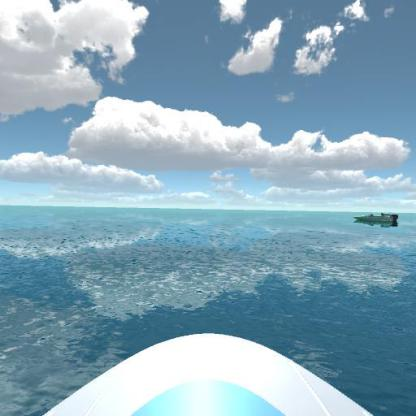usv0: (354, 210, 401, 228)
